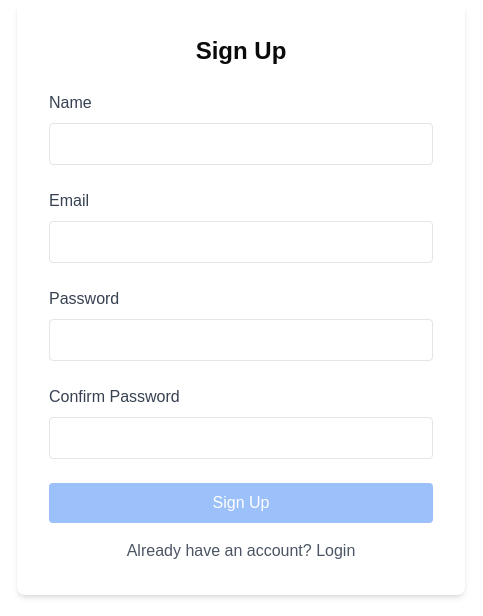
Test: RegisterPage › enables submit button when form is valid
Expected: the button "Sign Up" is disabled, top-left (49, 483), bottom-right (433, 523)
Fill in valid form data
Type "Test User" into the field labelled "Name". click: (241, 144)
box: top-left (49, 123), bottom-right (433, 165)
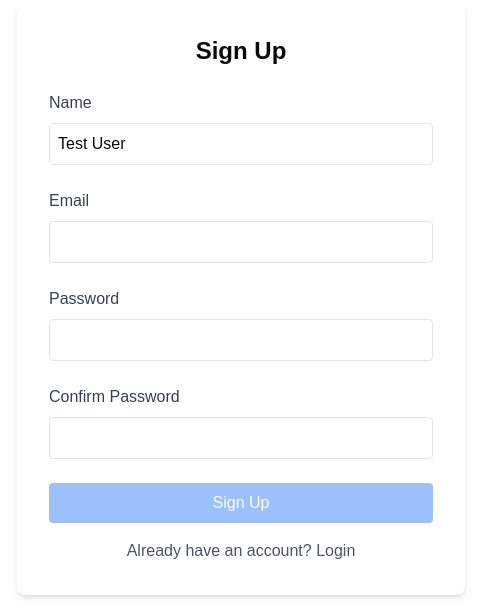
Type "test@example.com" into the field labelled "Email". click: (241, 242)
box: top-left (49, 221), bottom-right (433, 263)
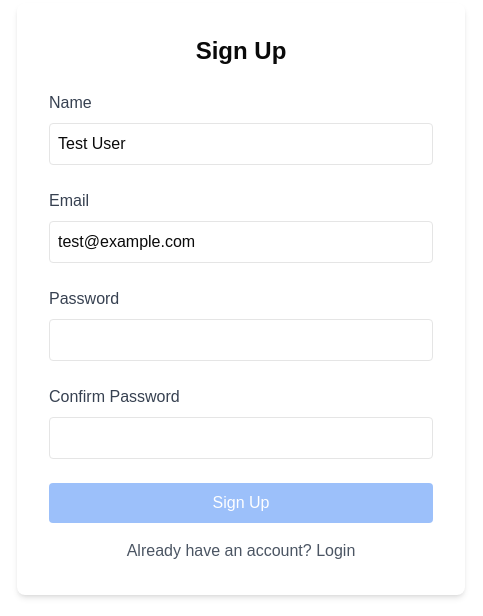
Type "password123" into the password field labelled "Password". click: (241, 340)
box: top-left (49, 319), bottom-right (433, 361)
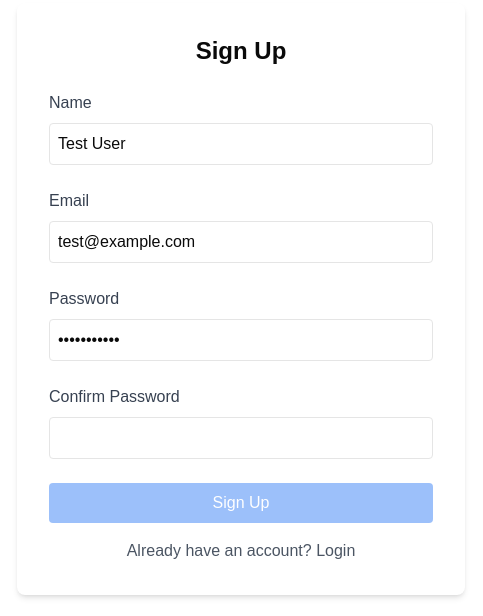
Type "password123" into the password field labelled "Confirm Password". click: (241, 438)
box: top-left (49, 417), bottom-right (433, 459)
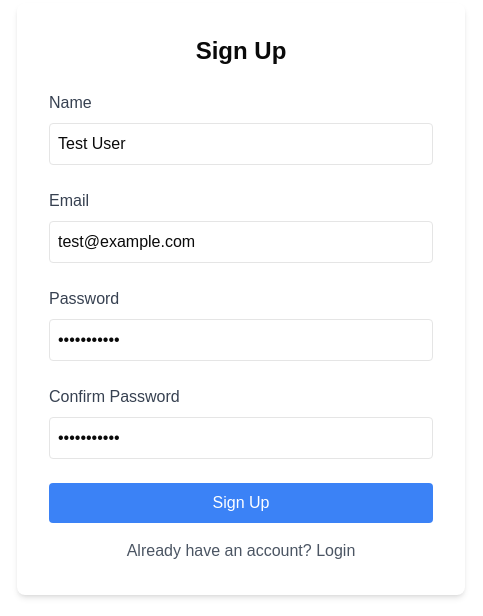
Expected: the button "Sign Up" is enabled, top-left (49, 483), bottom-right (433, 523)
